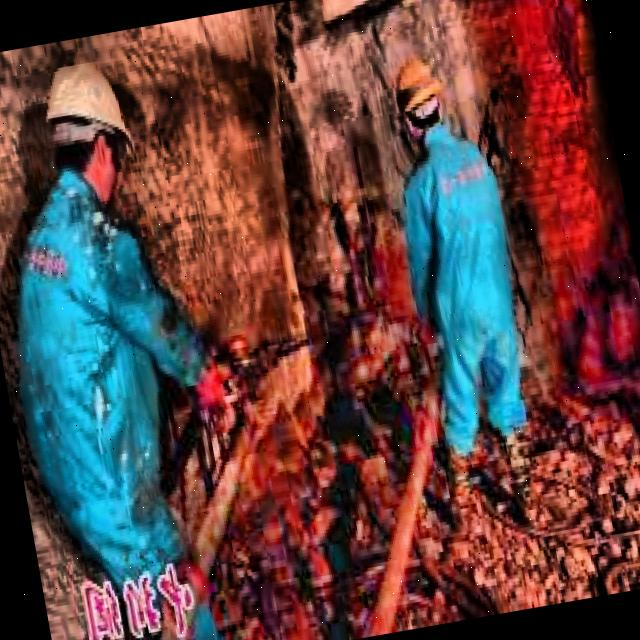helmet: (31, 46, 151, 222), (390, 57, 450, 148)
